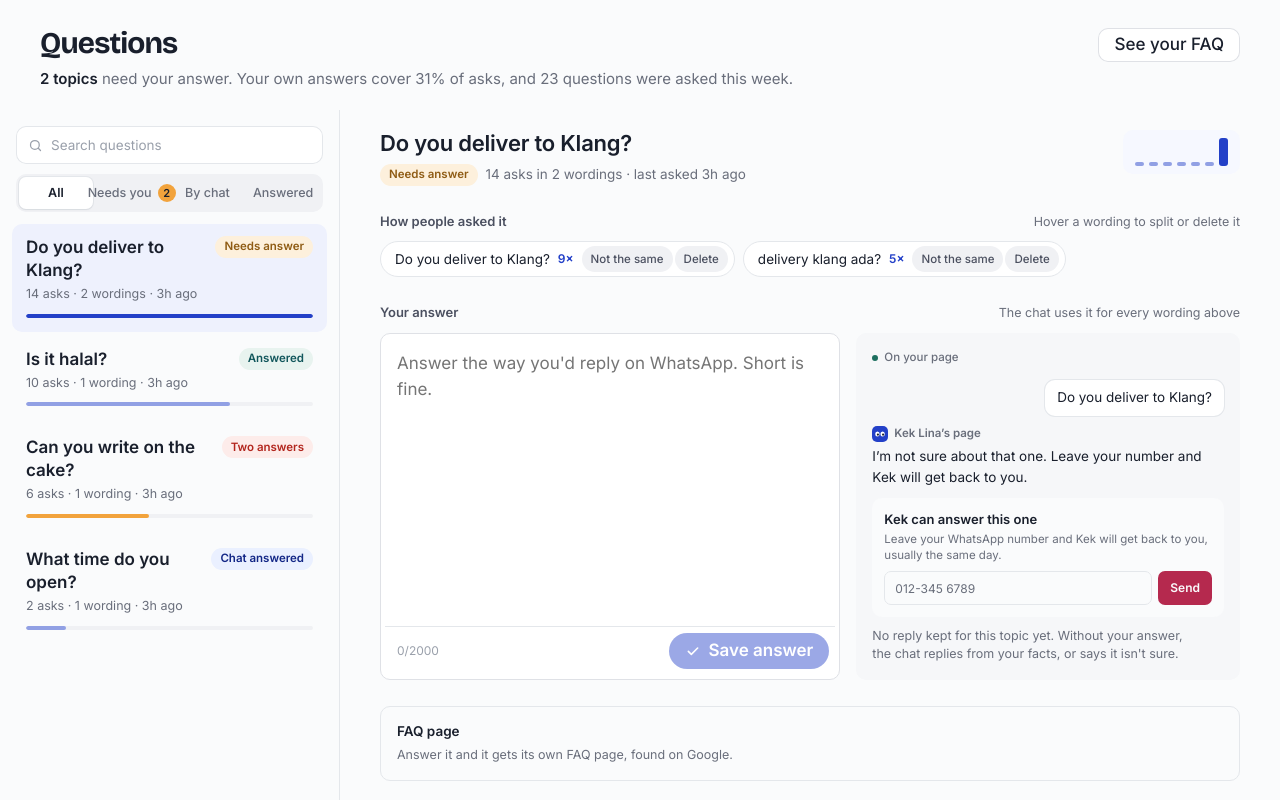
Test case: QuestionsScreen, the list › filters to what needs you, counting them, to what the chat answered, and to what you answered
This screenshot has width=1280, height=800.
Click the tab "Needs you 2" at (132, 193), box [95, 177, 169, 209]
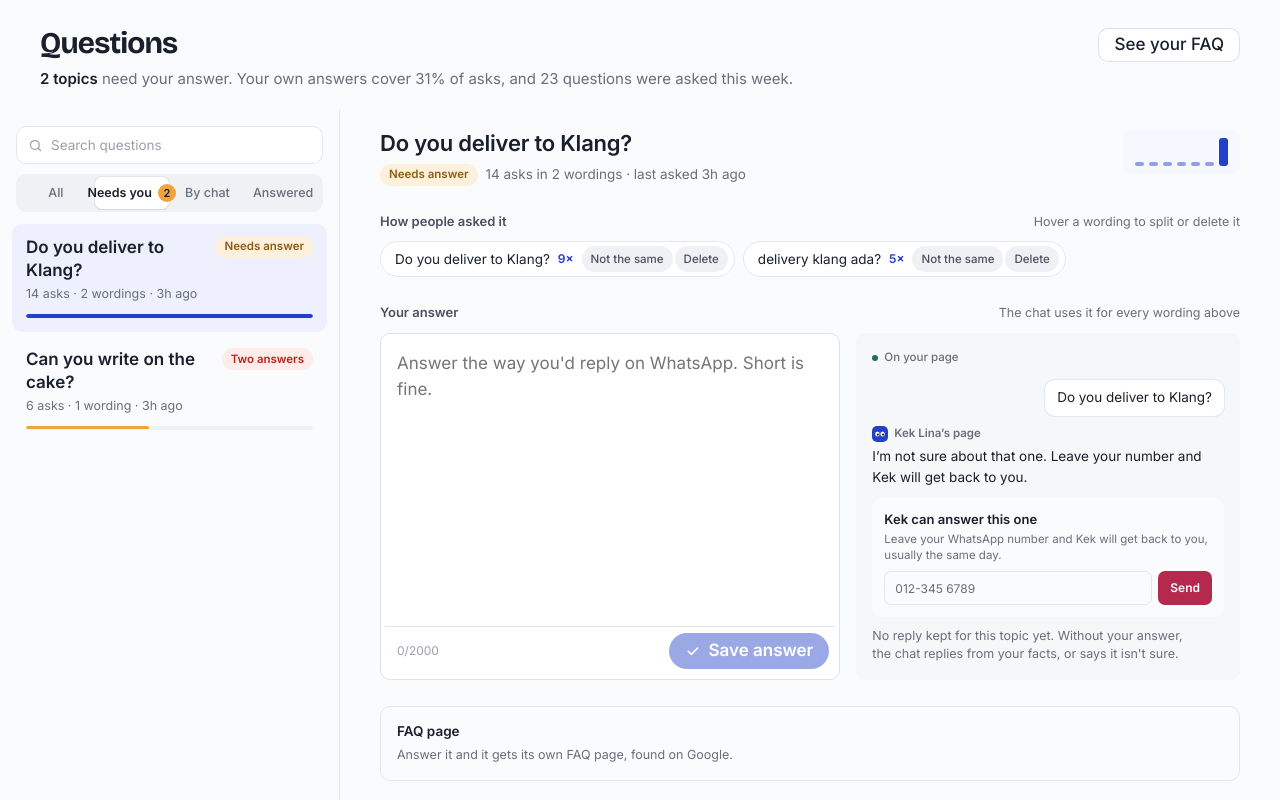
Click the tab "By chat" at (207, 193), box [170, 177, 244, 209]
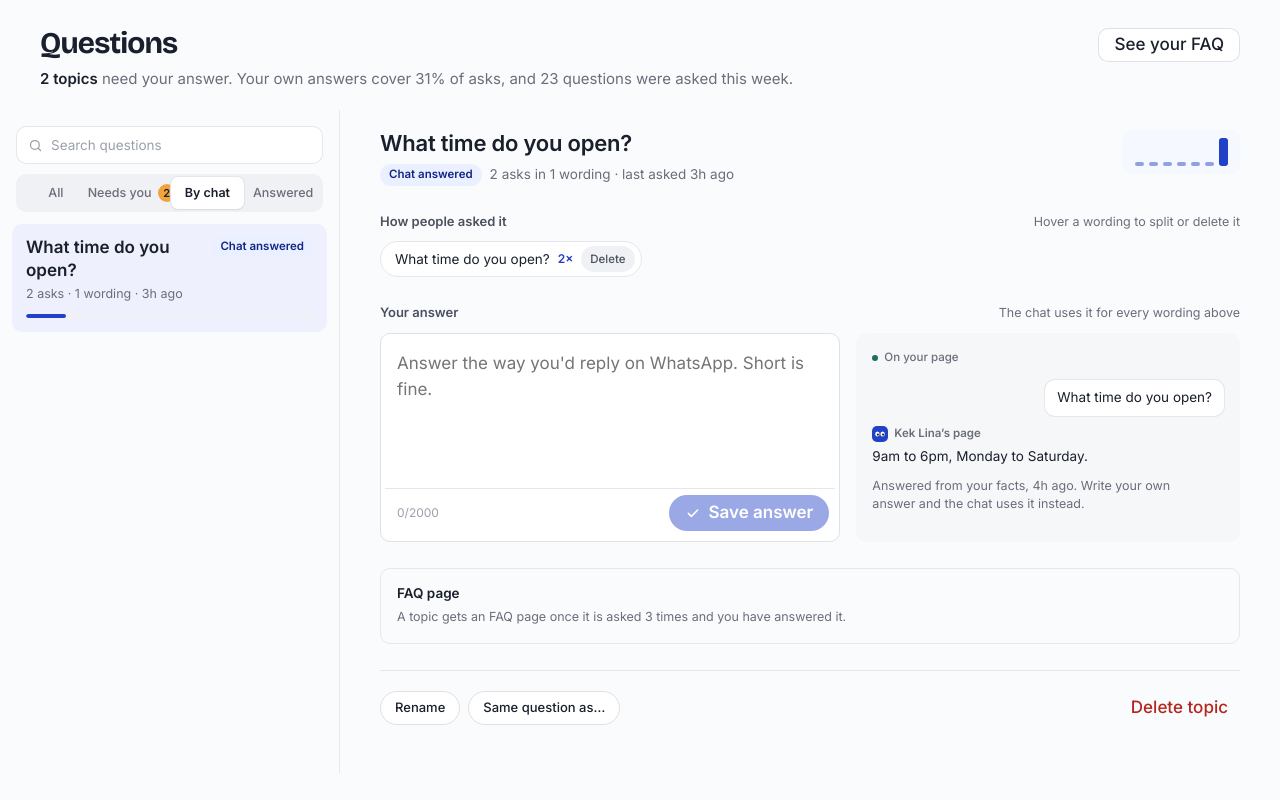
Click the tab "Answered" at (283, 193), box [246, 177, 320, 209]
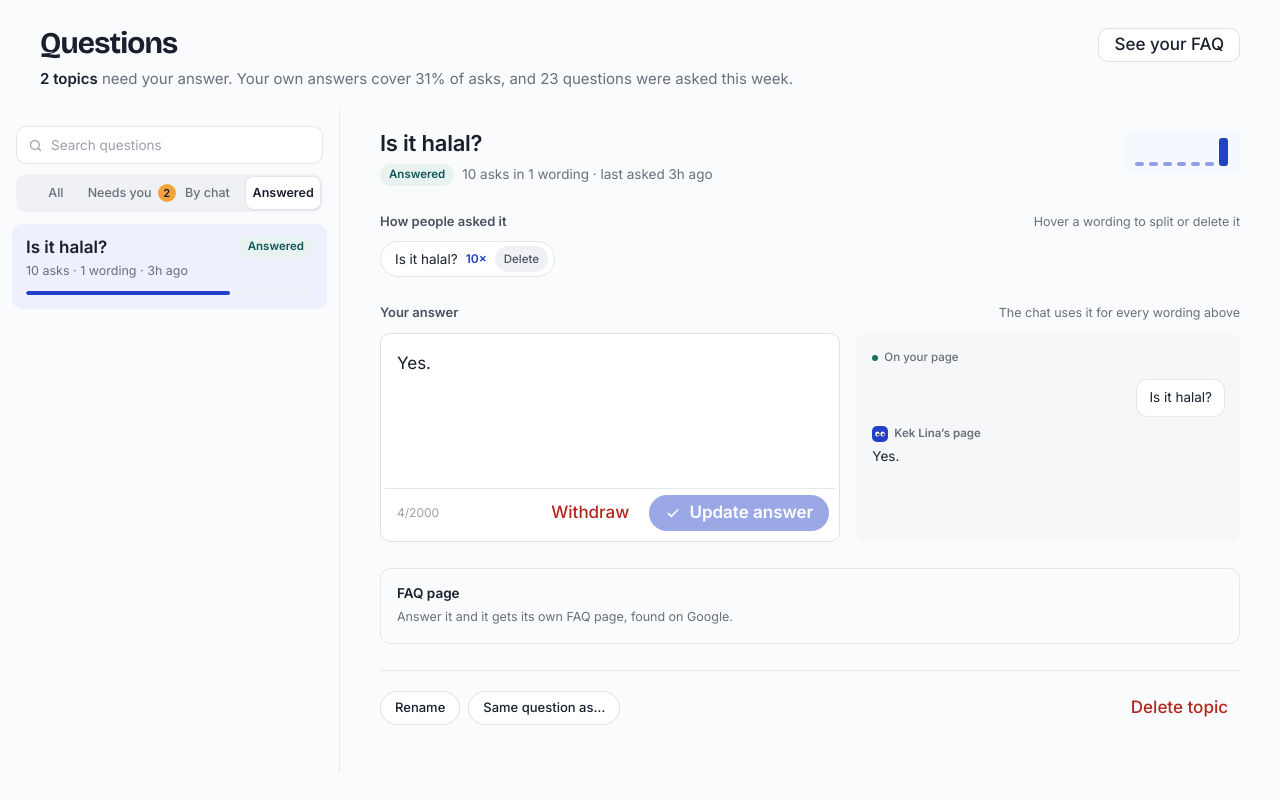
Result: the heading "Is it halal?" is shown at [380, 130, 482, 156]
